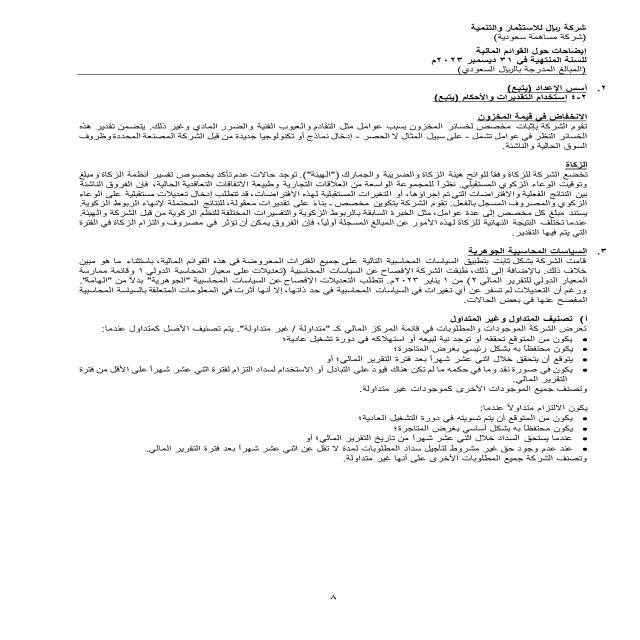notes: (473, 47, 598, 56)
text: (22, 79, 604, 506)
